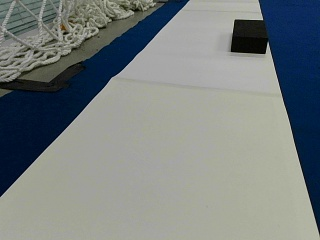block: (230, 19, 267, 53)
